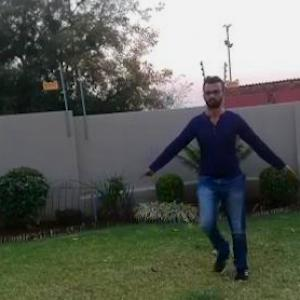land: (160, 89, 280, 255)
